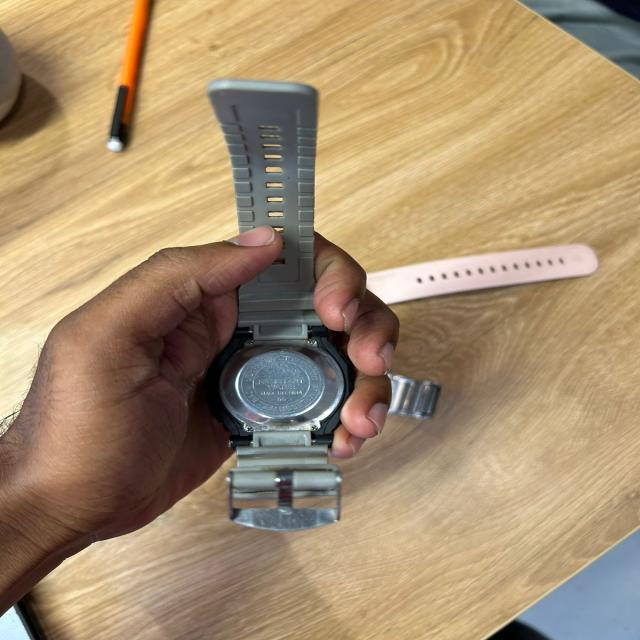watch: (201, 77, 355, 531)
